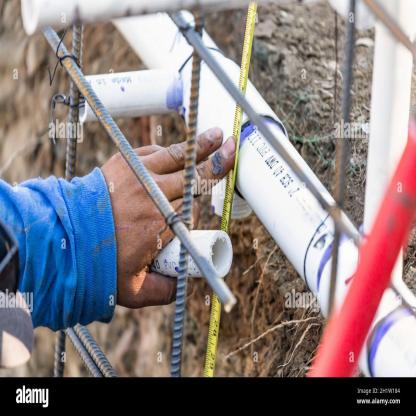PVC: (78, 11, 368, 314), (309, 124, 415, 374), (363, 0, 416, 227), (358, 252, 416, 376), (20, 1, 217, 36), (151, 228, 235, 279)
